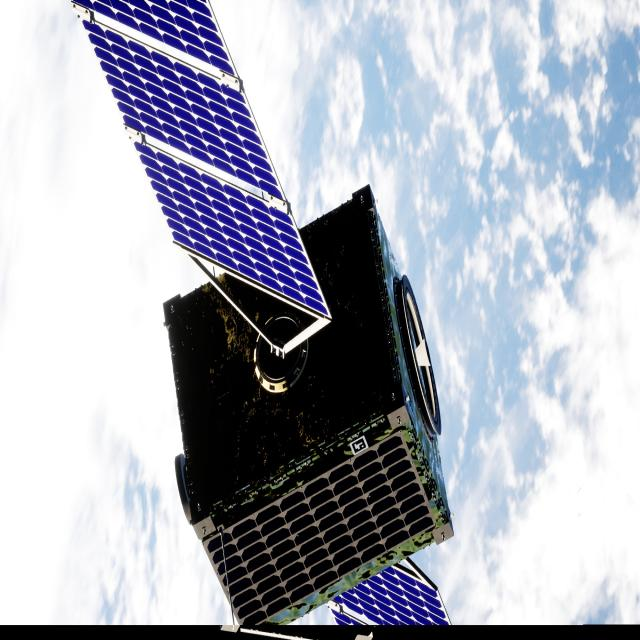satellite: (71, 0, 455, 631)
